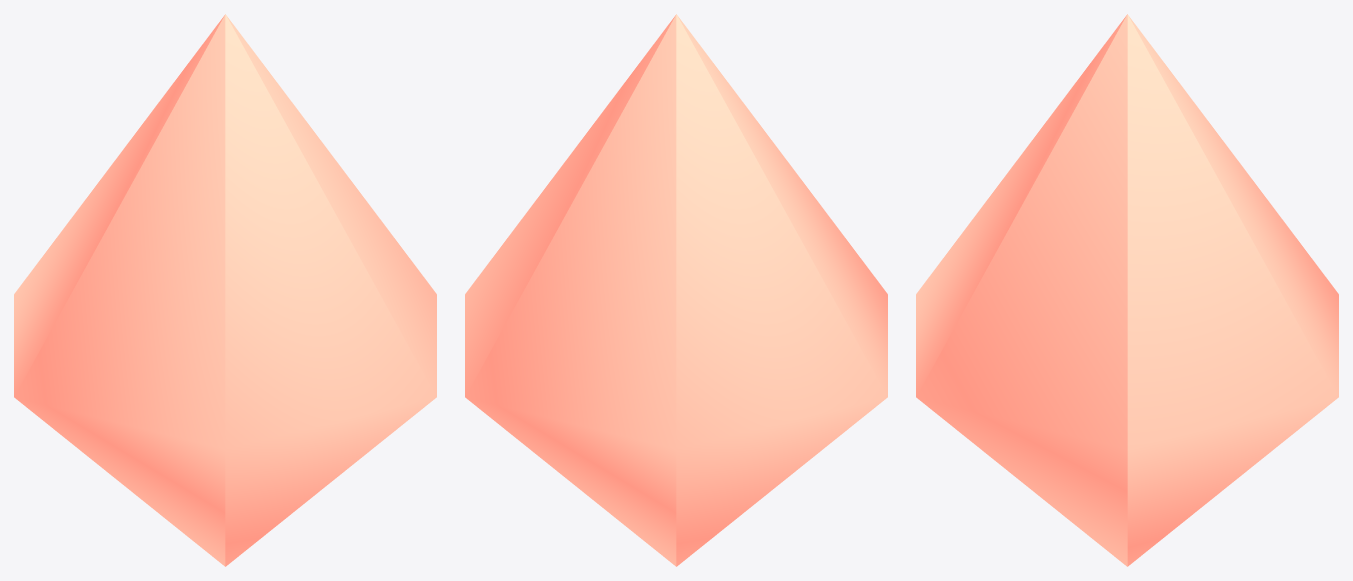
File: gem_off.glb
The picture shows the model from 3 angles, left to right: view 1: azimuth 30°, elevation 25°; view 2: azimuth 150°, elevation 25°; view 3: azimuth 270°, elevation 25°; orthographic projection.
Visible parts, largest first — view 1: gem; view 2: gem; view 3: gem.
Part boxes in pixels (x1,y1,x2,y2): gem: (14, 14, 436, 566); gem: (465, 14, 887, 566); gem: (916, 14, 1338, 566).
Size of the model in its own units: 0.24 by 0.3 by 0.2078.
